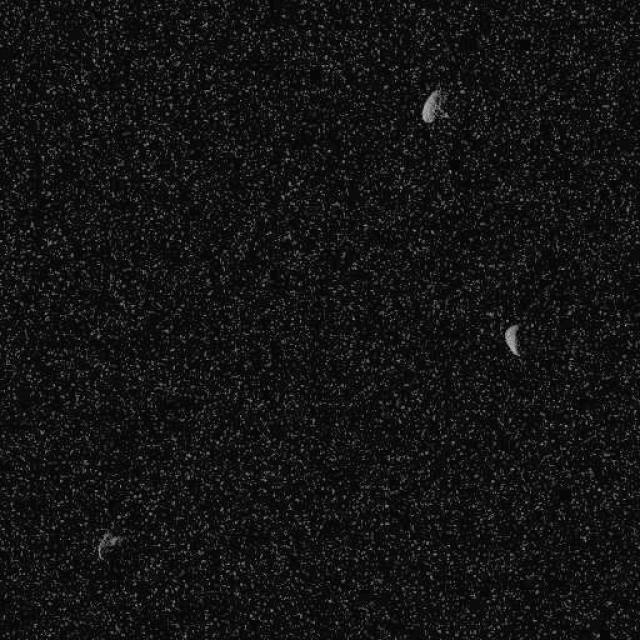D2: (420, 88, 448, 124), (95, 528, 123, 562), (502, 322, 522, 357)
